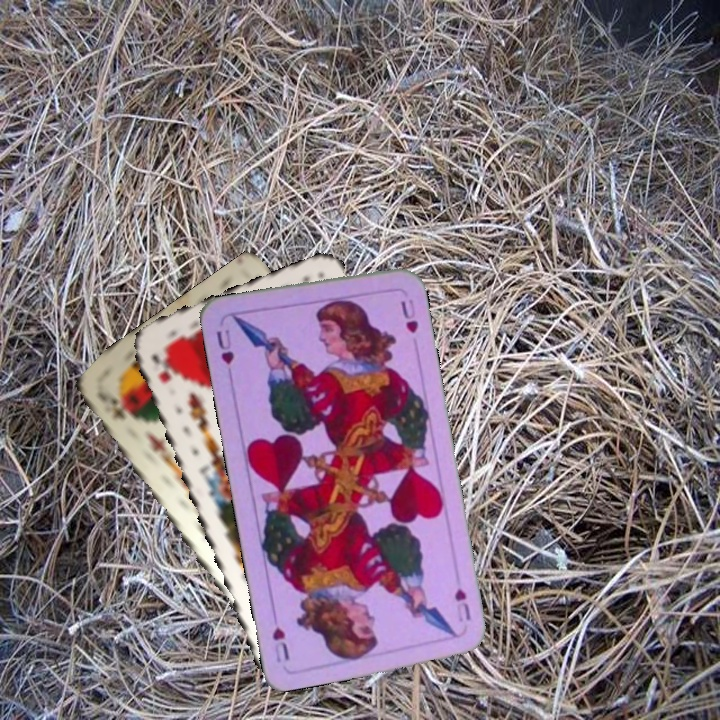HK: (148, 350, 178, 386)
HU: (212, 325, 237, 380), (450, 584, 473, 625)
SK: (105, 391, 140, 427)
